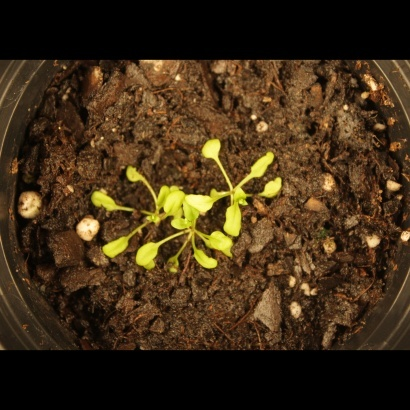leaf: (183, 185, 219, 217), (133, 240, 165, 274), (206, 229, 240, 260), (197, 136, 227, 166), (248, 149, 276, 180), (86, 191, 122, 215), (97, 235, 133, 259), (223, 202, 246, 238), (191, 246, 219, 275), (160, 250, 185, 280), (262, 176, 285, 205), (162, 184, 185, 213), (124, 161, 147, 186), (173, 212, 196, 235)
